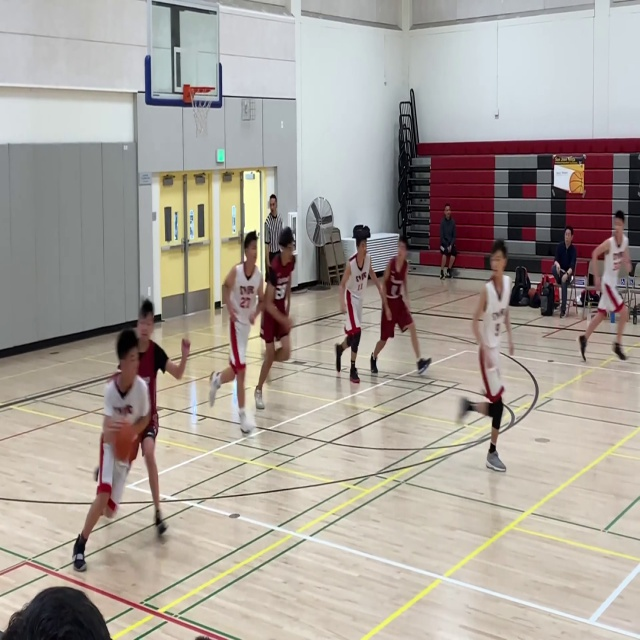Basketball: (112, 422, 139, 463)
